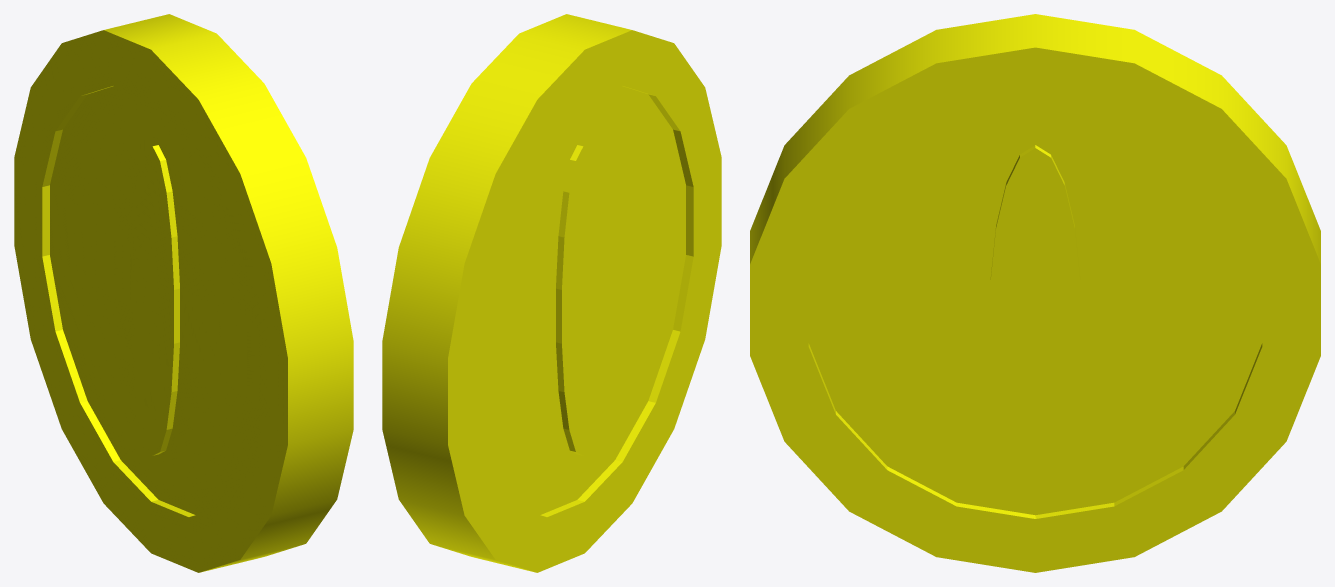
The model's file is Coin.FBX.
The picture shows the model from 3 angles, left to right: view 1: azimuth 30°, elevation 25°; view 2: azimuth 150°, elevation 25°; view 3: azimuth 270°, elevation 25°; orthographic projection. The views are drawn at different scales.
Visible parts, largest first — view 1: Cylinder001; view 2: Cylinder001; view 3: Cylinder001.
Part boxes in pixels (x1,y1,x2,y2): Cylinder001: (14,14,353,572); Cylinder001: (382,14,721,572); Cylinder001: (750,14,1320,572).
Bounding box in the file's own units: 3.05 × 22.27 × 21.93.
Materials: 1 (1 with a texture image).
